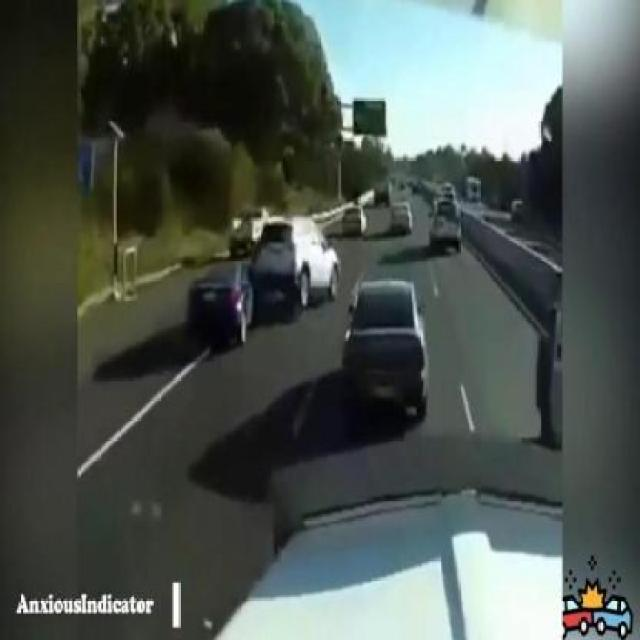accident: (183, 214, 344, 358)
